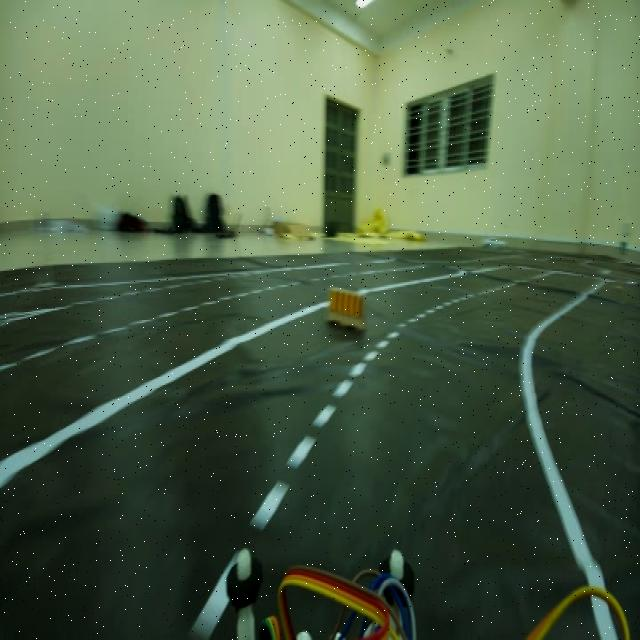roadblock: (325, 279, 368, 334)
